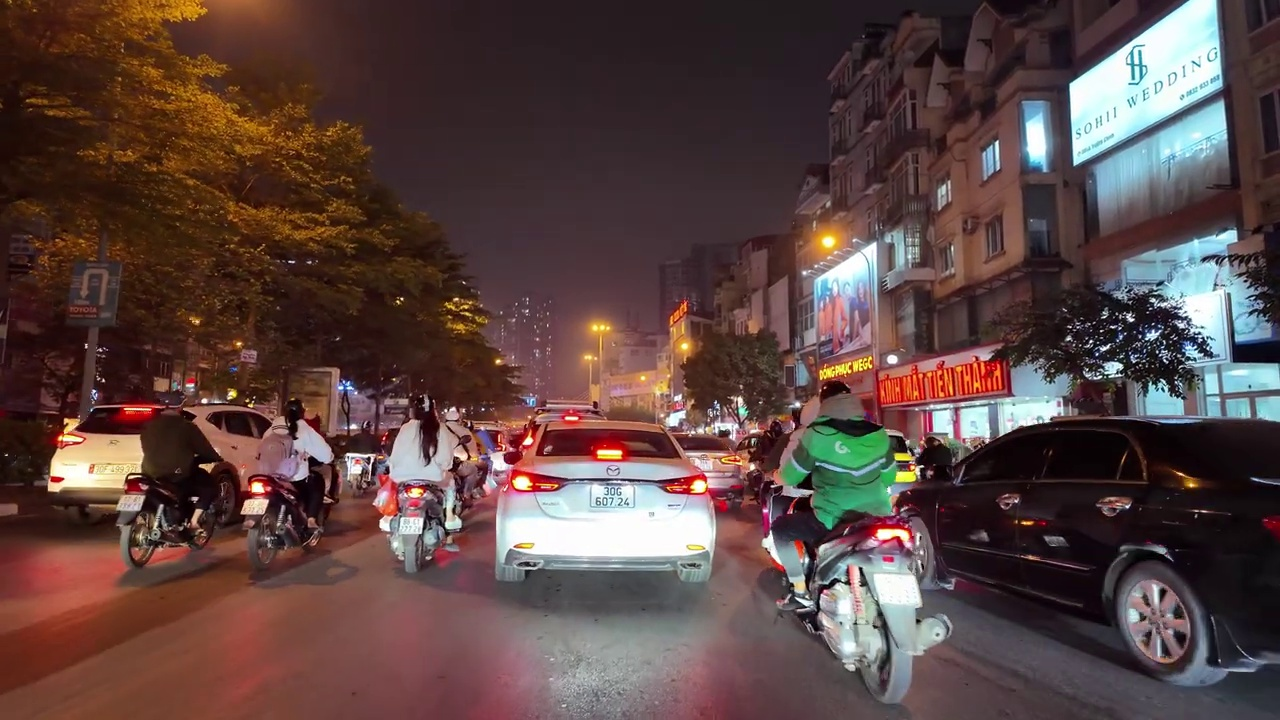acesa: (811, 226, 844, 256), (587, 316, 613, 341)
